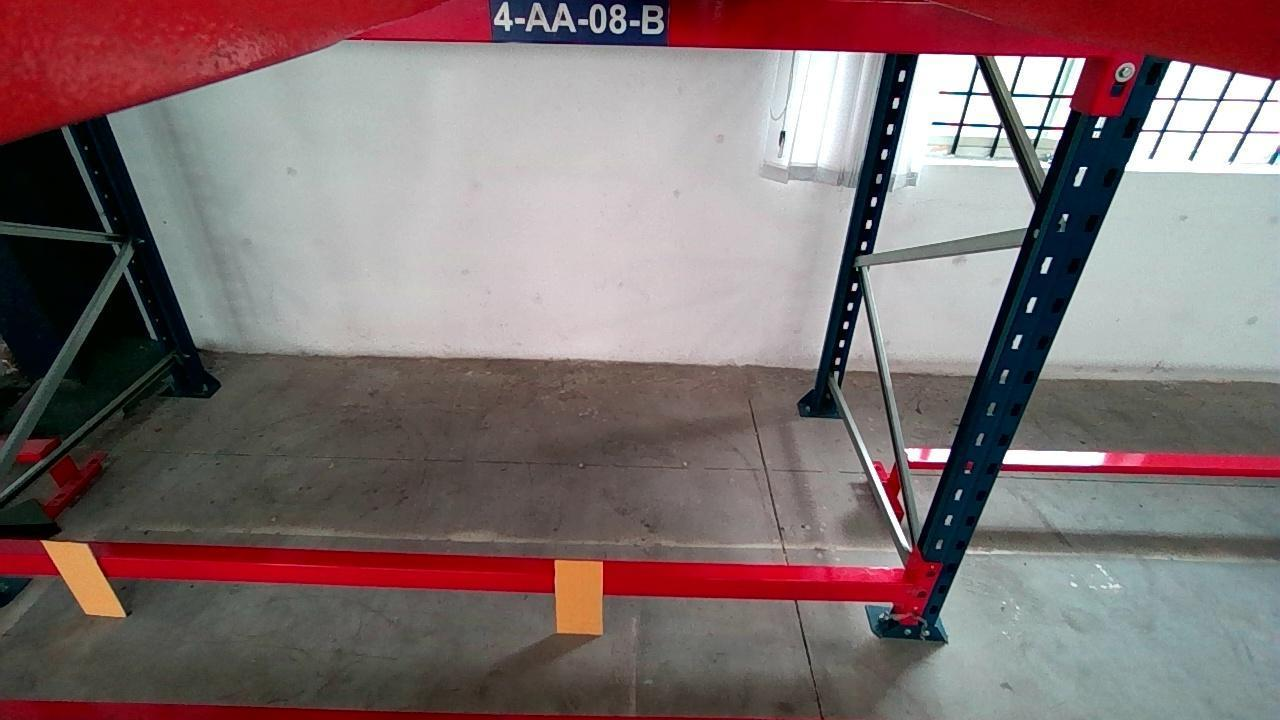h_rack: (0, 552, 909, 605), (352, 0, 1115, 52)
orange_strip: (39, 543, 128, 618), (555, 562, 607, 633)
